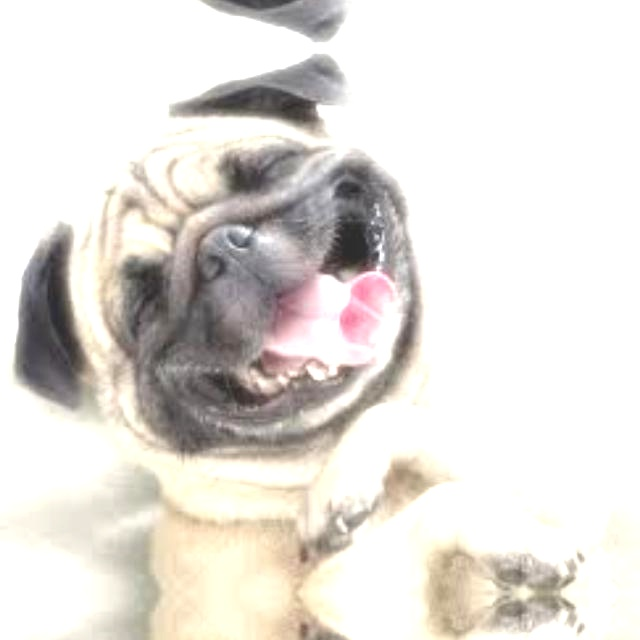dog: (0, 48, 466, 428), (0, 0, 466, 45)
